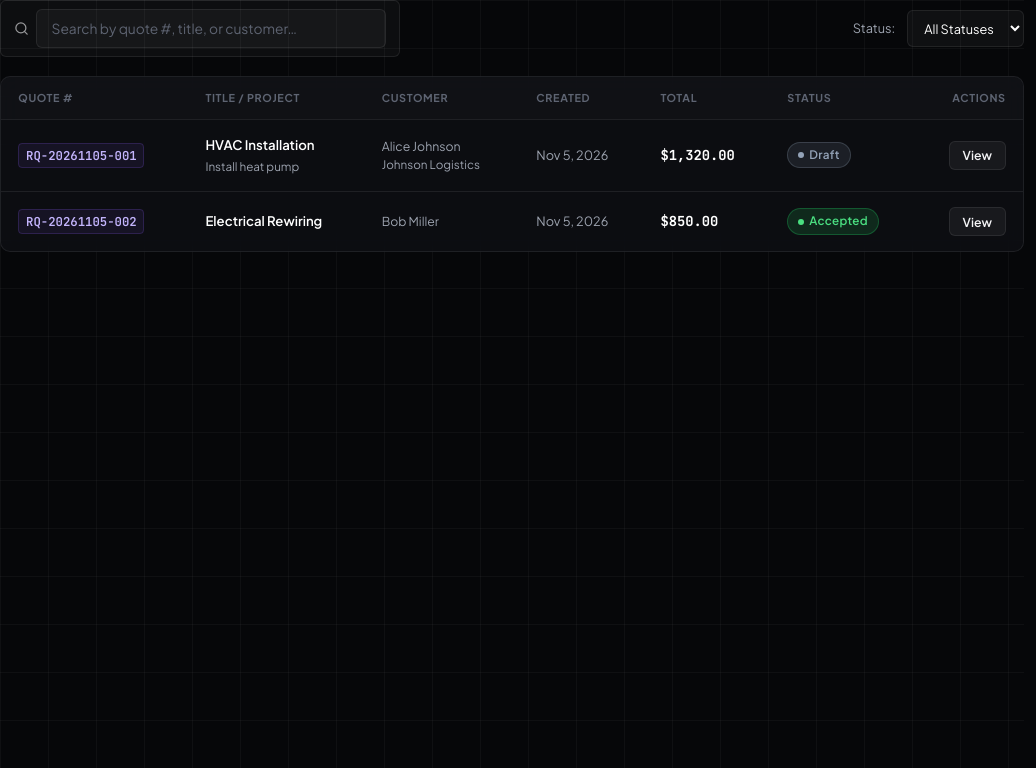
Test case: QuotationTable › filters rows based on search input
Type "HVAC" into the search field named "search quotations" at (211, 29), box [36,9,386,48]
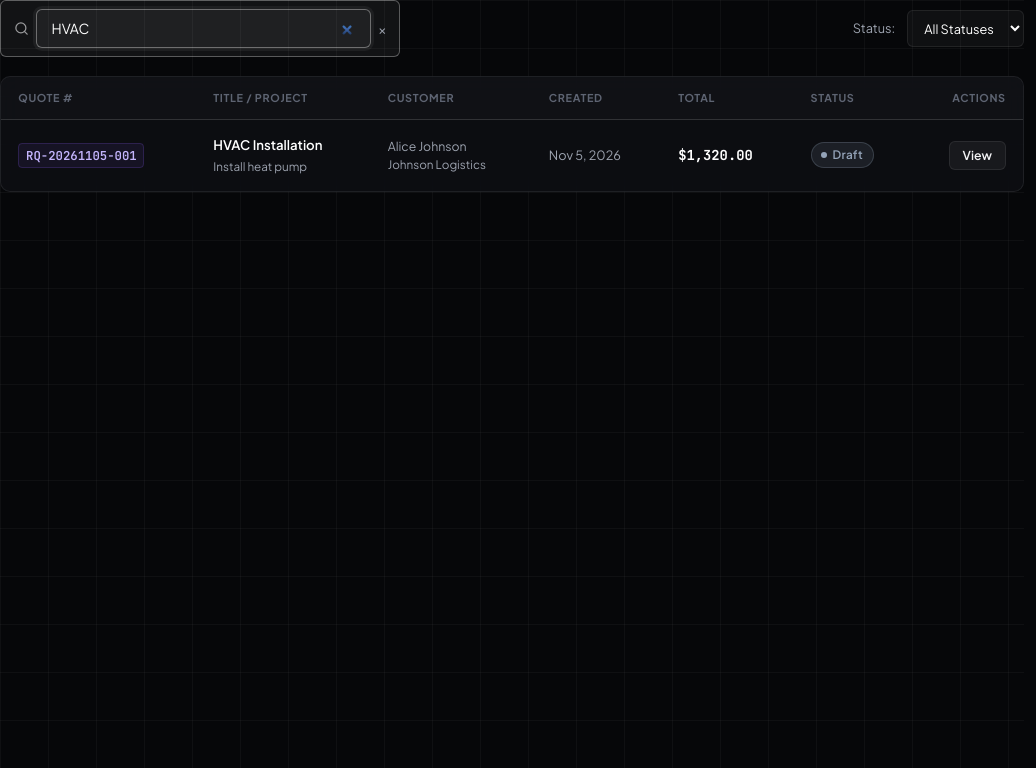
Check: the text "HVAC Installation" is shown, box [213,136,322,153]
Check: the link "Electrical Rewiring" is gone
